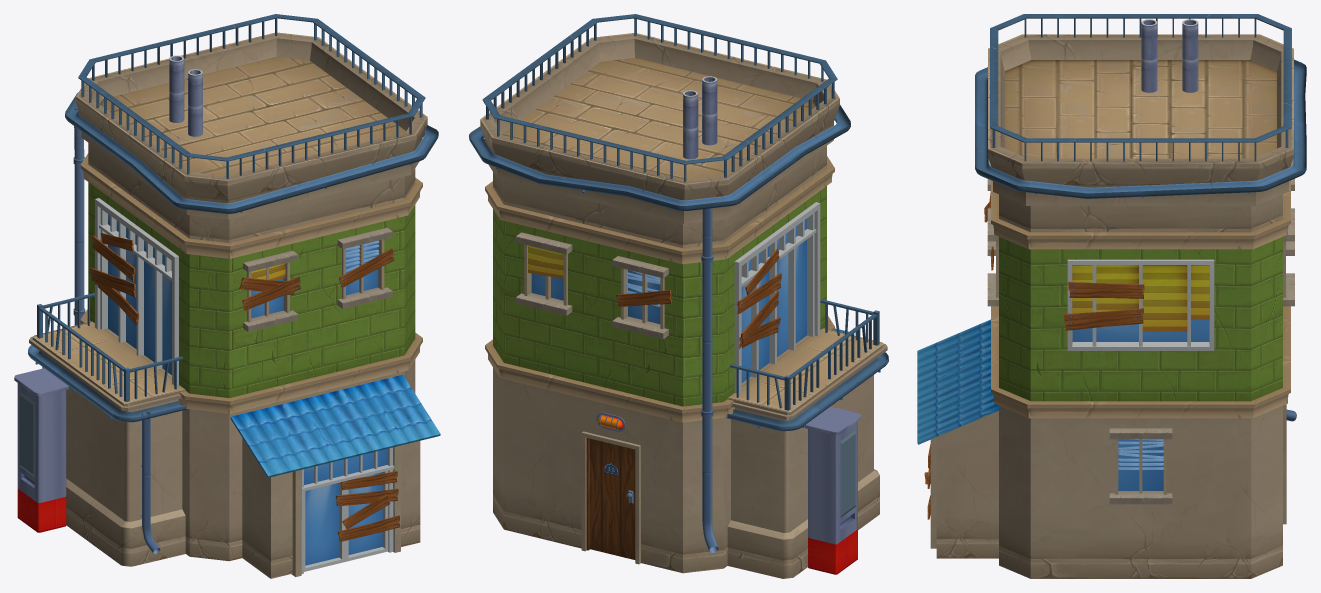
The model's file is Building_02_4.fbx.
3 views of the same model, side by side, from view 1: azimuth 30°, elevation 25°; view 2: azimuth 150°, elevation 25°; view 3: azimuth 270°, elevation 25° (orthographic). The views are drawn at different scales.
Parts seen in each view (by area): view 1: polySurface1535; view 2: polySurface1535; view 3: polySurface1535.
Boxes of the visible parts, left/top/right/bottom form: polySurface1535: left=14, top=14, right=440, bottom=578; polySurface1535: left=469, top=14, right=888, bottom=578; polySurface1535: left=917, top=14, right=1306, bottom=578.
Size of the model in its own units: 736 by 896 by 673.
